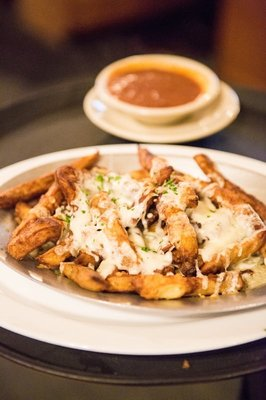sushi: (85, 53, 222, 126)
